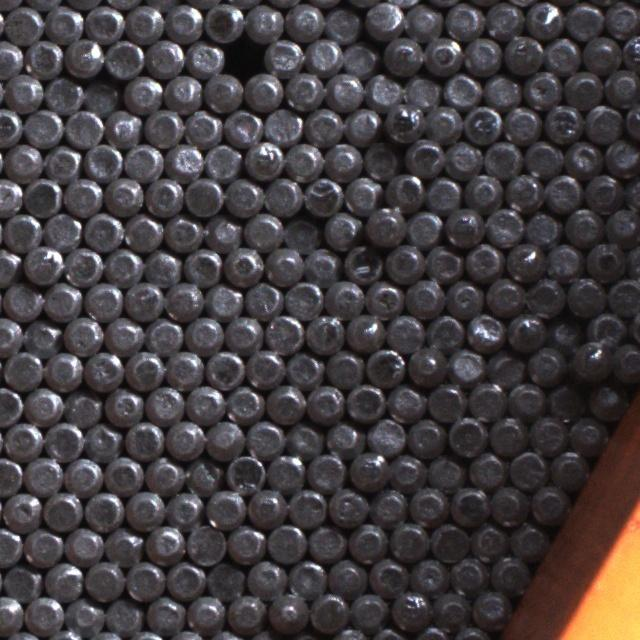tool: (584, 238, 625, 279), (568, 341, 609, 382), (265, 520, 305, 561), (164, 418, 204, 459), (488, 484, 528, 525), (185, 522, 225, 563), (244, 418, 284, 459), (365, 345, 406, 385), (224, 452, 265, 492), (245, 485, 285, 526), (345, 310, 385, 351), (267, 589, 307, 630), (524, 275, 564, 316), (448, 484, 488, 525), (427, 379, 467, 420), (184, 383, 224, 423), (204, 487, 244, 527), (2, 420, 42, 460), (4, 4, 44, 44), (408, 484, 448, 524), (384, 242, 424, 282), (223, 107, 263, 147), (388, 589, 428, 629), (507, 447, 547, 487), (82, 348, 122, 388), (104, 38, 144, 78), (542, 102, 582, 142), (144, 523, 184, 563), (22, 594, 62, 634), (244, 346, 284, 386), (284, 348, 324, 388), (484, 206, 524, 246), (286, 557, 326, 597), (202, 70, 242, 110), (347, 522, 387, 562), (526, 344, 566, 384), (404, 275, 444, 315), (42, 560, 82, 600), (42, 210, 82, 250), (225, 591, 265, 631), (305, 449, 345, 489), (367, 556, 407, 596), (564, 274, 604, 314), (223, 244, 263, 284), (482, 138, 522, 178), (102, 454, 142, 494), (583, 170, 623, 210), (324, 347, 364, 387), (348, 448, 388, 488), (428, 520, 468, 560), (489, 552, 529, 592), (548, 447, 588, 487), (24, 37, 63, 78), (406, 343, 445, 384), (464, 241, 504, 280), (84, 560, 123, 600), (287, 486, 326, 526), (388, 519, 427, 559), (164, 212, 203, 252), (284, 69, 323, 109), (64, 36, 103, 76), (327, 486, 366, 526), (305, 382, 344, 422), (584, 102, 623, 142), (84, 210, 123, 250), (2, 280, 42, 319), (504, 33, 543, 73), (63, 245, 102, 285), (205, 418, 244, 458), (23, 244, 62, 284), (443, 206, 483, 245), (123, 418, 162, 458), (406, 416, 446, 455), (467, 448, 506, 488), (124, 560, 163, 600), (23, 385, 62, 425), (463, 34, 502, 74), (124, 489, 163, 529), (463, 102, 502, 142), (41, 281, 80, 321), (265, 244, 304, 284), (103, 174, 143, 213), (3, 489, 42, 529), (488, 414, 527, 454), (283, 278, 322, 318), (431, 586, 470, 626), (309, 591, 348, 631), (144, 384, 183, 424), (204, 348, 243, 388), (124, 348, 163, 388), (447, 415, 486, 455), (349, 590, 388, 630), (304, 312, 343, 352), (506, 311, 546, 350), (225, 522, 264, 562), (103, 525, 143, 564), (42, 490, 81, 530), (582, 33, 622, 72), (466, 380, 505, 420), (363, 277, 403, 316), (143, 176, 182, 216), (506, 378, 546, 417), (405, 136, 444, 176), (366, 415, 406, 454), (468, 521, 508, 560), (144, 454, 183, 494), (23, 174, 62, 214), (4, 71, 44, 110), (484, 274, 524, 313), (524, 138, 563, 178), (509, 520, 549, 559), (21, 316, 60, 356), (1, 560, 41, 599), (529, 483, 568, 523), (381, 103, 421, 142), (244, 138, 282, 179), (263, 105, 302, 144), (165, 560, 204, 599), (264, 383, 303, 422), (364, 206, 403, 245), (304, 105, 343, 144), (124, 212, 163, 251), (85, 3, 124, 42), (404, 208, 443, 247), (264, 312, 303, 351), (63, 314, 102, 353), (184, 591, 223, 630), (143, 109, 182, 148), (283, 141, 322, 180), (63, 456, 102, 495), (2, 348, 41, 387), (123, 141, 162, 180), (103, 315, 142, 354), (443, 0, 482, 39), (41, 349, 80, 388), (224, 384, 263, 423), (164, 349, 203, 388), (345, 382, 384, 421), (63, 176, 102, 215), (43, 4, 82, 43), (23, 526, 62, 565), (303, 174, 342, 213), (223, 313, 262, 352), (2, 211, 41, 250), (103, 245, 142, 284), (528, 413, 567, 452), (203, 213, 242, 252), (523, 69, 562, 108), (385, 171, 424, 210), (341, 244, 380, 283), (564, 0, 603, 39), (223, 176, 262, 215), (323, 139, 362, 178), (245, 558, 284, 597), (243, 3, 282, 42), (203, 3, 242, 42), (586, 310, 625, 349), (207, 559, 246, 598), (545, 382, 584, 421), (586, 381, 625, 420), (543, 34, 581, 74), (442, 70, 482, 108), (563, 205, 601, 245), (164, 280, 202, 320), (102, 386, 142, 424), (544, 240, 582, 280), (145, 36, 183, 76), (84, 139, 122, 179), (84, 490, 122, 530), (382, 36, 422, 74), (64, 524, 102, 564), (243, 210, 281, 250), (84, 280, 122, 320), (504, 170, 542, 210), (423, 35, 461, 75), (262, 176, 302, 214), (24, 454, 62, 494), (44, 420, 82, 460), (524, 0, 564, 38), (506, 238, 544, 278), (266, 450, 304, 490), (204, 140, 242, 179), (307, 522, 346, 560), (64, 107, 102, 146), (164, 488, 202, 527), (368, 486, 406, 525), (63, 388, 101, 427), (544, 171, 582, 210), (164, 2, 202, 41), (3, 142, 42, 180), (463, 170, 502, 208), (183, 246, 221, 285), (243, 280, 281, 319), (166, 139, 204, 178), (386, 313, 425, 351), (523, 208, 561, 247), (243, 72, 282, 110), (125, 3, 163, 42), (443, 138, 481, 177), (24, 108, 63, 146), (142, 247, 181, 285), (387, 382, 425, 421), (83, 421, 121, 460), (125, 280, 163, 319), (483, 71, 522, 109), (184, 314, 223, 352), (424, 242, 462, 281), (184, 175, 222, 214), (164, 72, 202, 111), (602, 66, 640, 105), (387, 449, 425, 488), (285, 1, 323, 40), (123, 74, 162, 112), (144, 315, 182, 354), (64, 596, 103, 634), (44, 75, 83, 113), (401, 72, 440, 110), (563, 68, 601, 107), (404, 1, 442, 40), (44, 142, 82, 181), (323, 278, 362, 316), (410, 554, 449, 592), (545, 313, 583, 352), (567, 414, 606, 452), (144, 593, 182, 632), (423, 104, 462, 142), (183, 456, 222, 494), (471, 587, 509, 626), (343, 105, 381, 143), (185, 38, 223, 76), (466, 311, 504, 349), (184, 107, 222, 145), (265, 36, 303, 74), (104, 596, 142, 634), (362, 142, 400, 180), (342, 174, 380, 212), (426, 312, 464, 350), (444, 278, 482, 316), (564, 138, 602, 176), (322, 5, 360, 43), (326, 70, 364, 108), (503, 105, 541, 143), (324, 418, 362, 456), (426, 452, 464, 490), (302, 244, 340, 282), (327, 557, 365, 595), (486, 349, 524, 387), (450, 554, 488, 592), (364, 0, 403, 37), (483, 0, 522, 37), (603, 202, 640, 241), (604, 136, 640, 176), (447, 344, 484, 382), (305, 35, 342, 73), (204, 282, 242, 319), (341, 39, 378, 77), (285, 420, 323, 457), (105, 108, 143, 145), (322, 210, 359, 248), (82, 78, 119, 116), (424, 175, 462, 212), (282, 215, 320, 252), (224, 35, 261, 73), (605, 274, 640, 314), (603, 0, 640, 37), (366, 71, 402, 108), (610, 342, 640, 381), (0, 384, 23, 424), (0, 592, 22, 633), (0, 314, 22, 354), (0, 455, 22, 495), (0, 107, 22, 146), (0, 39, 22, 78), (0, 526, 22, 564), (0, 176, 22, 214), (0, 246, 20, 284), (622, 31, 640, 70)
